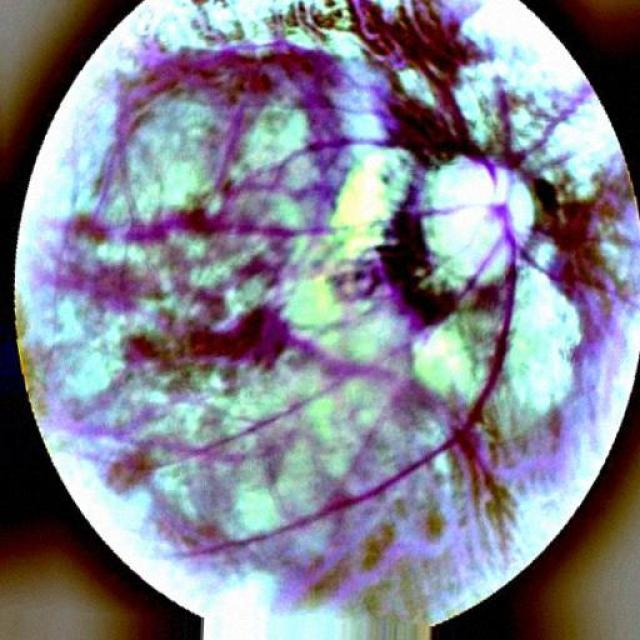Nerves: (319, 239, 516, 515)
Optic Disk: (422, 160, 509, 289)
